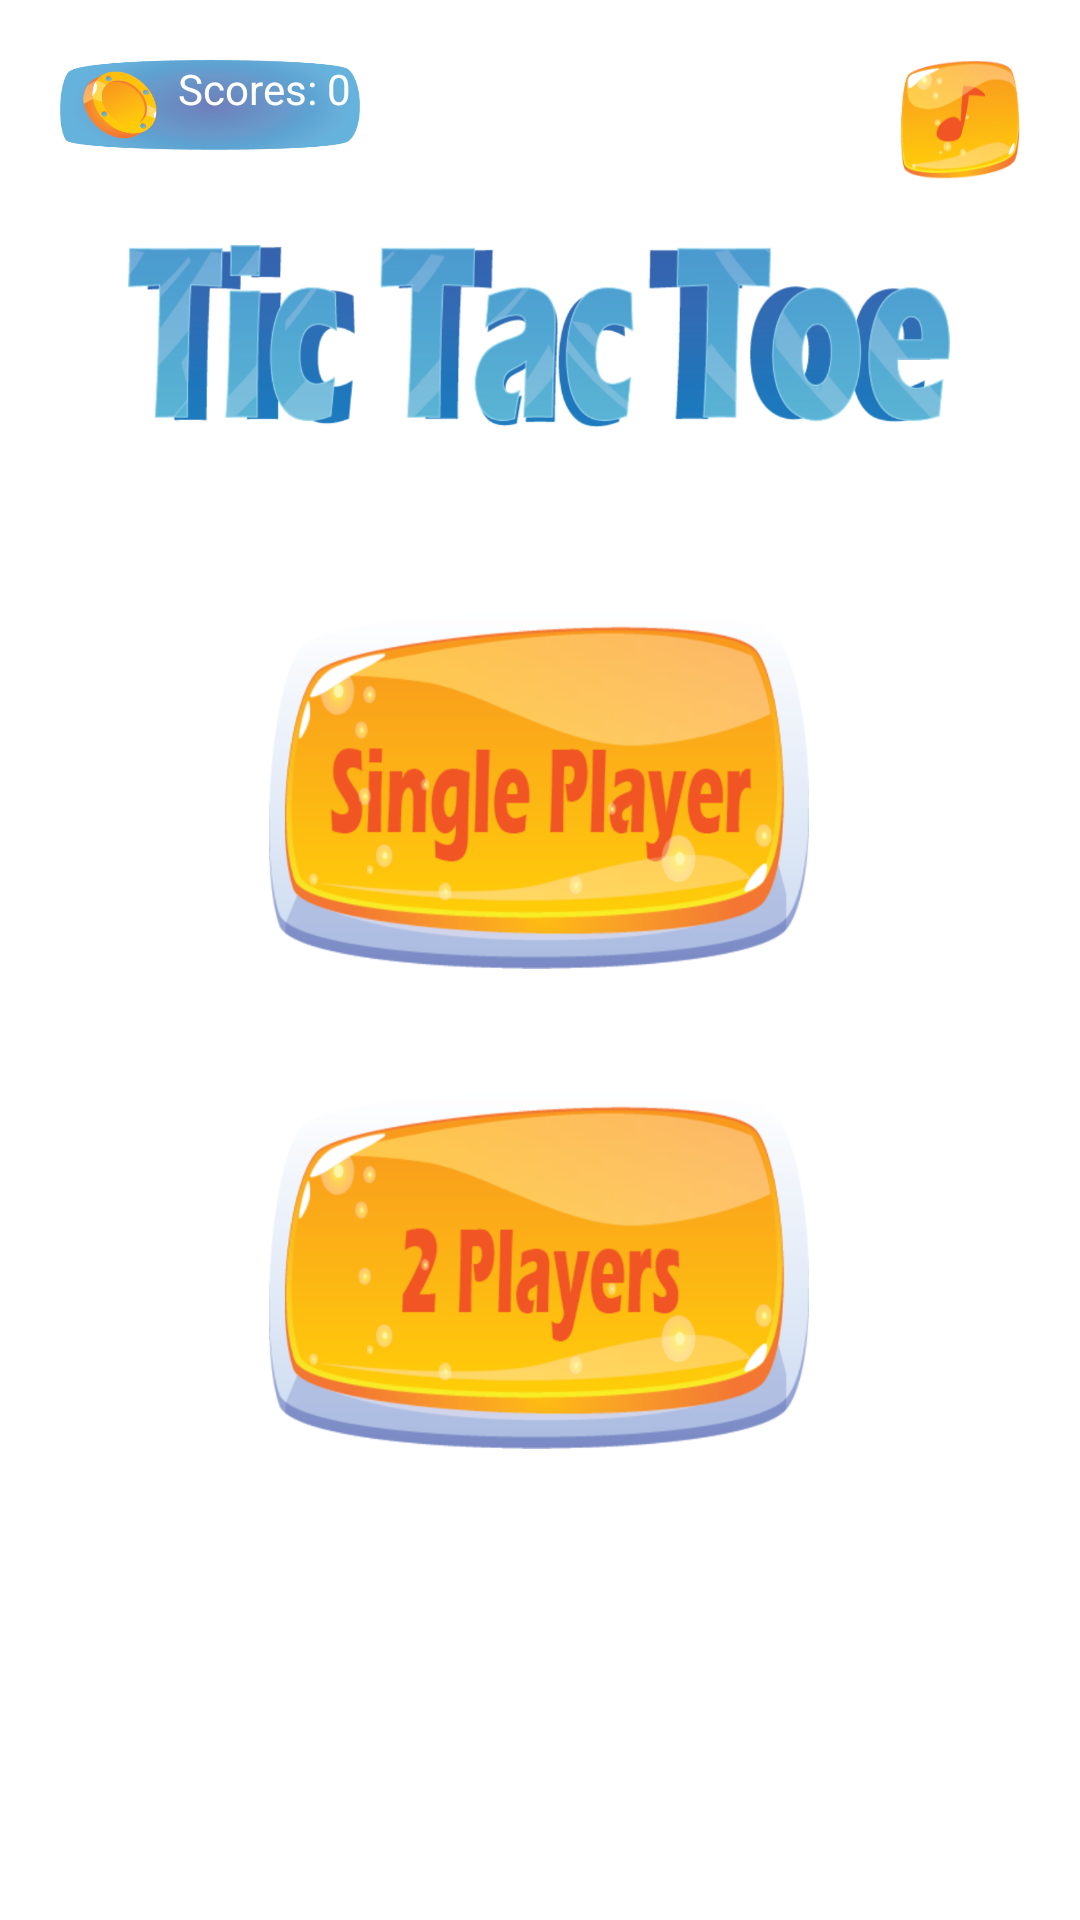

Icons on this 1080×1920 Android screen, each with the point to tap as [x,y]:
music: [960,120]
